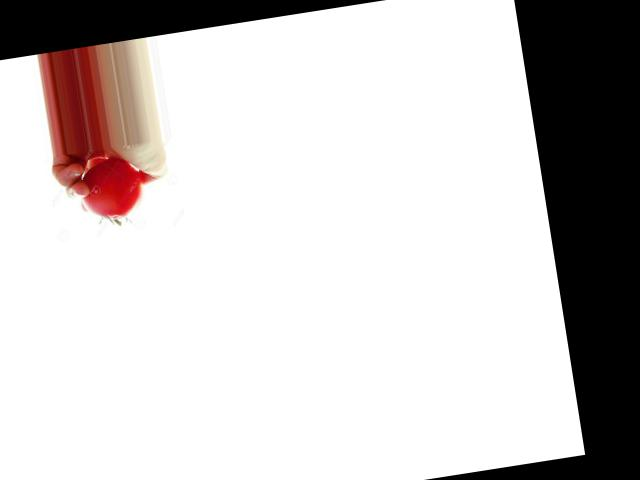tomato: (75, 154, 146, 224)
